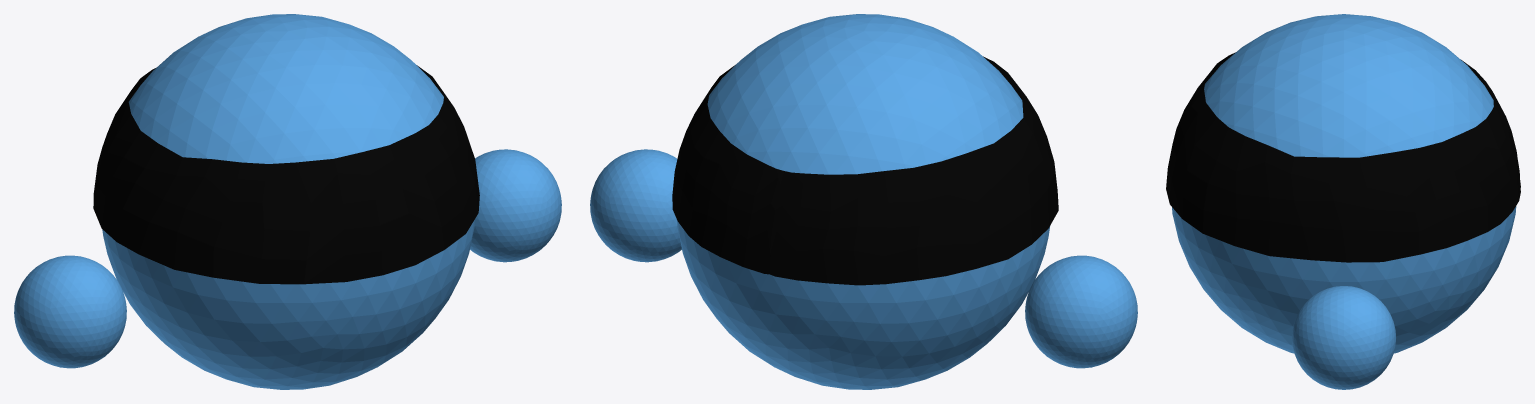
Rendered from BREEZE.fbx.
The picture shows the model from 3 angles, left to right: view 1: azimuth 30°, elevation 25°; view 2: azimuth 150°, elevation 25°; view 3: azimuth 270°, elevation 25°; orthographic projection. The views are drawn at different scales.
Visible parts, largest first — view 1: Icosphere, Vert, Icosphere.002, Icosphere.001; view 2: Icosphere, Vert, Icosphere.002, Icosphere.001; view 3: Icosphere, Vert, Icosphere.001.
Part boxes in pixels (bbox=[...]): Icosphere: bbox=[102, 14, 474, 389]; Vert: bbox=[93, 65, 479, 284]; Icosphere.002: bbox=[14, 255, 126, 368]; Icosphere.001: bbox=[470, 149, 561, 262]; Icosphere: bbox=[677, 14, 1049, 389]; Vert: bbox=[672, 56, 1058, 285]; Icosphere.002: bbox=[1025, 255, 1137, 368]; Icosphere.001: bbox=[590, 149, 681, 262]; Icosphere: bbox=[1172, 14, 1516, 353]; Vert: bbox=[1166, 52, 1520, 262]; Icosphere.001: bbox=[1292, 286, 1395, 389].
Bounding box in the file's own units: 980 × 600 × 613.
